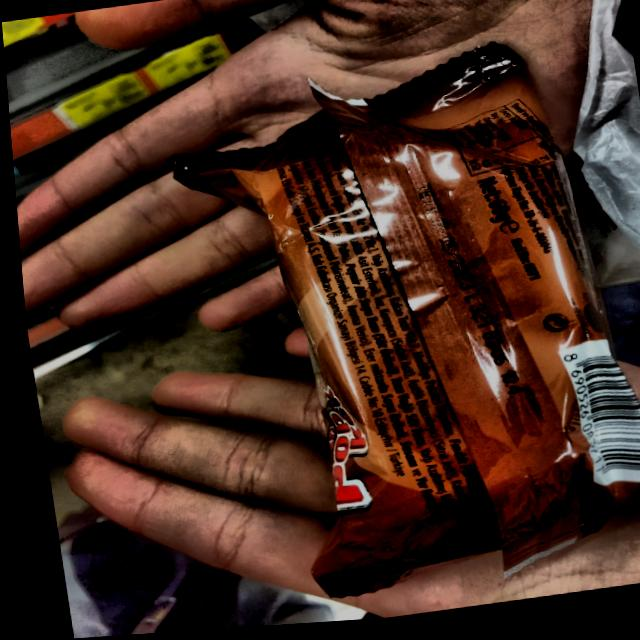Plastic: (108, 37, 640, 602)
